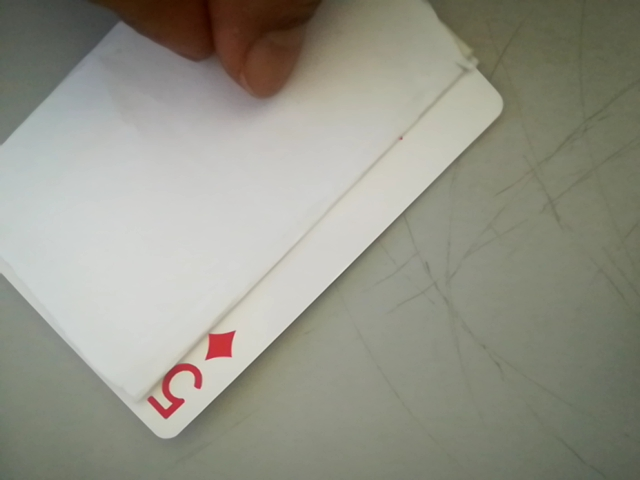fk 5: (138, 323, 242, 435)
